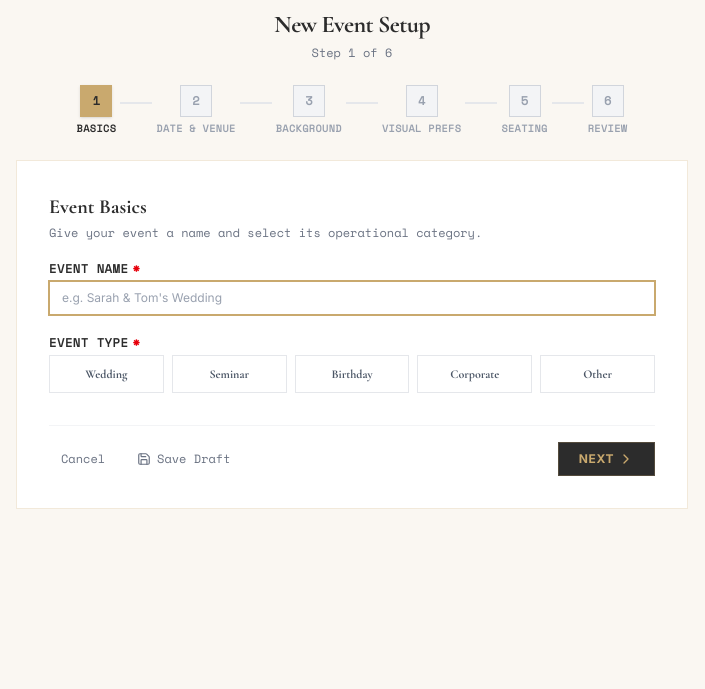
Scenario: ProjectSetupWizard › blocks Step 5 progression if seats < 2
This screenshot has width=705, height=689.
Type "My Test Event" into the field labelled "Event Name*" at (352, 298), box [49,281,655,315]
Click the radio button labelled "Wedding" at (106, 374), box [49,355,164,393]
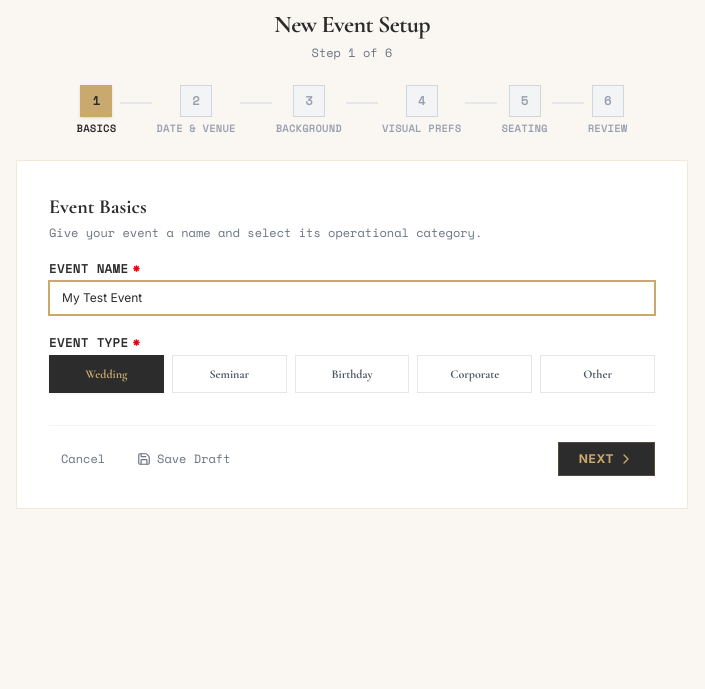
Click the button "Next" at (606, 459), box [558,442,655,476]
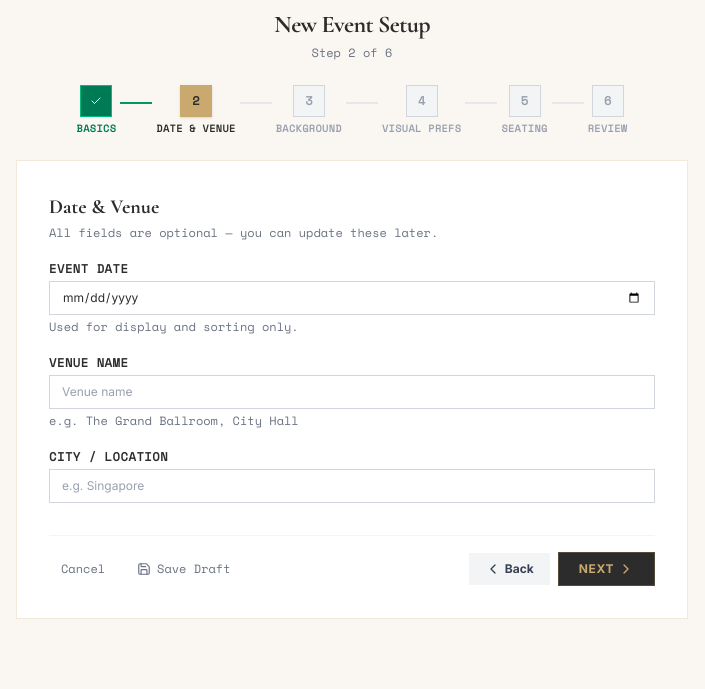
Click the button "Next" at (606, 569), box [558,552,655,586]
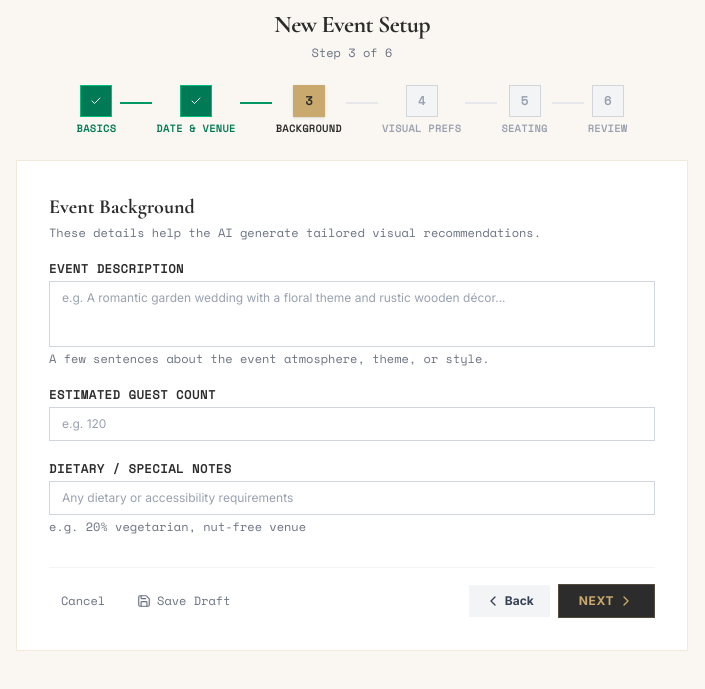
Click the button "Next" at (606, 601), box [558,584,655,618]
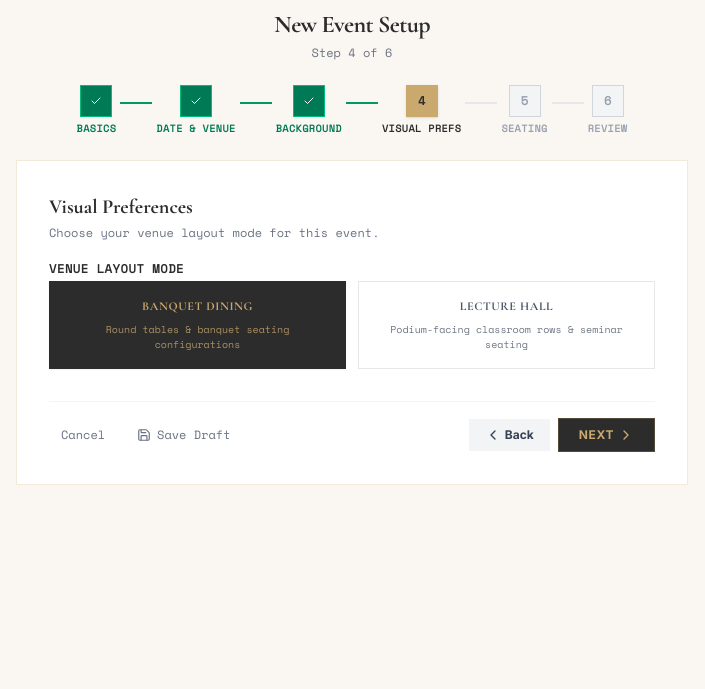
Click the button "Next" at (606, 435), box [558,418,655,452]
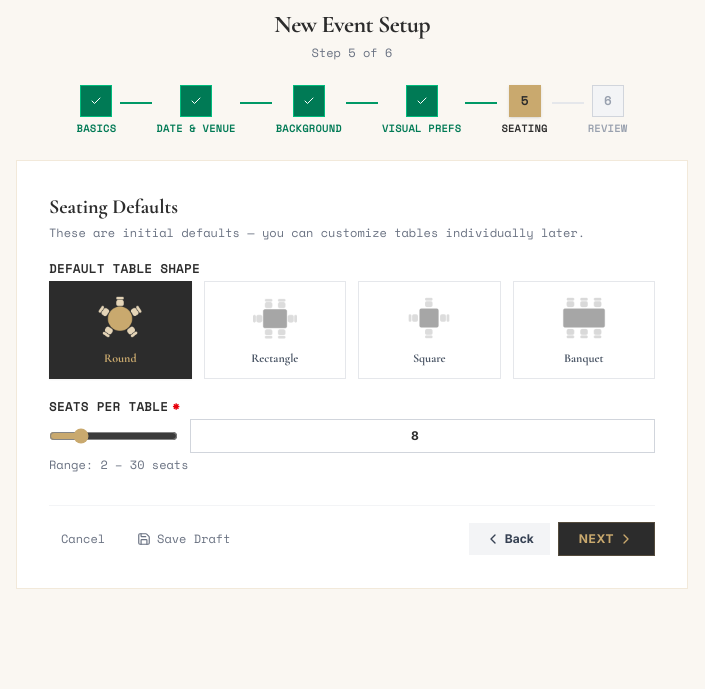
Expected: the heading "Seating Defaults" is shown, [49,195,178,219]
Replace the text in the number field named "Seats per table number" with "1" at (422, 436), box [190,419,655,453]
Click the button "Next" at (606, 539), box [558,522,655,556]
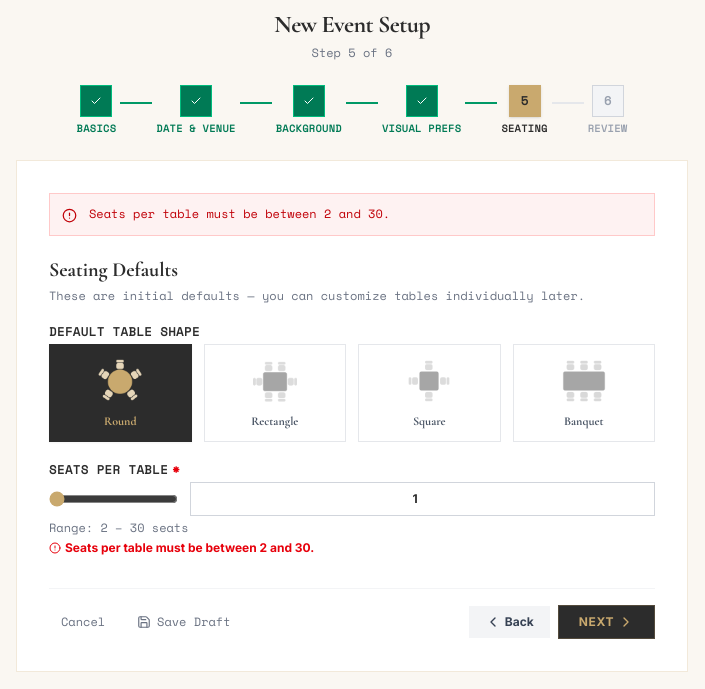
Expected: the list item "Seats per table must be between 2 and 30." is shown, [89,206,390,222]
